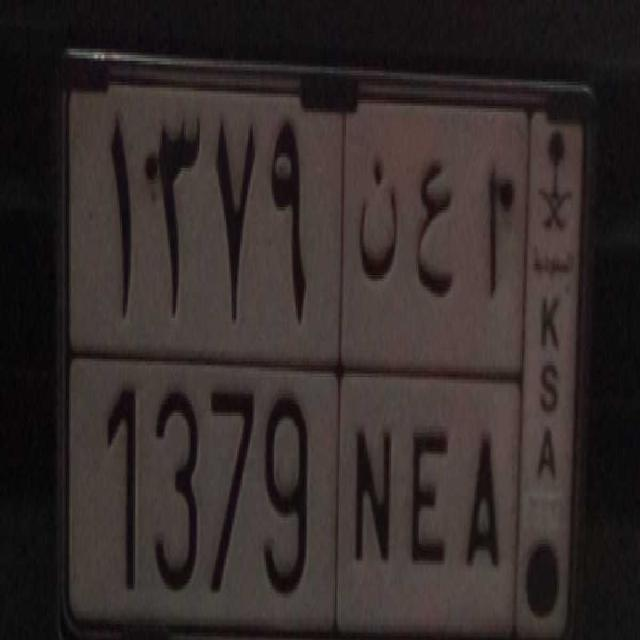license_plate: (65, 347, 512, 640)
